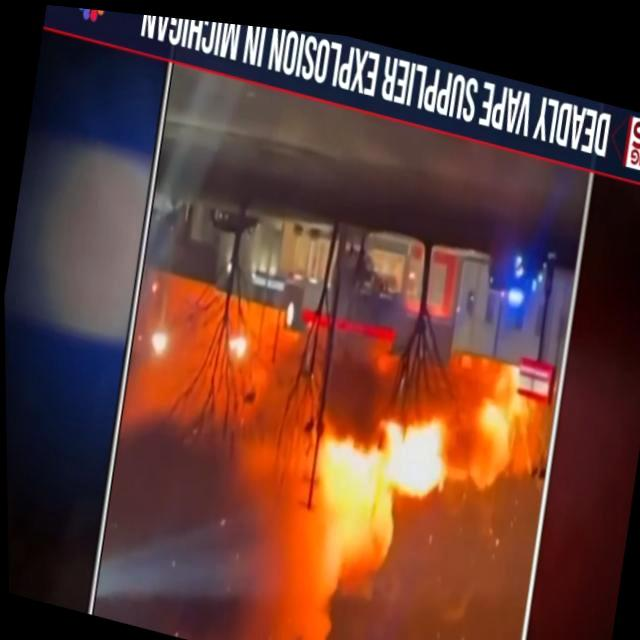fire: (145, 296, 519, 640)
